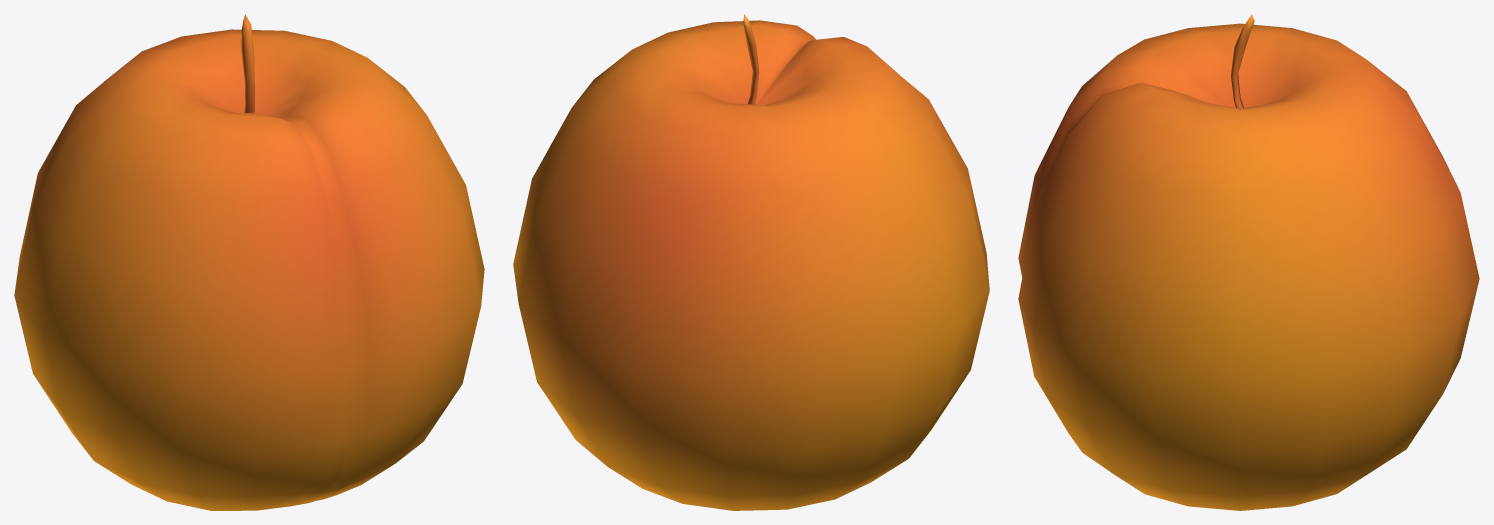
Rendered from ApricotMesh.FBX.
3 renders of one model, left to right at view 1: azimuth 30°, elevation 25°; view 2: azimuth 150°, elevation 25°; view 3: azimuth 270°, elevation 25°, orthographic.
Visible parts, largest first — view 1: Apricot; view 2: Apricot; view 3: Apricot.
Boxes of the visible parts, x1,y1,x2,y2 form: Apricot: (14, 14, 484, 510); Apricot: (513, 14, 989, 510); Apricot: (1018, 14, 1479, 510).
Size of the model in its own units: 11.01 by 11.44 by 10.61.
